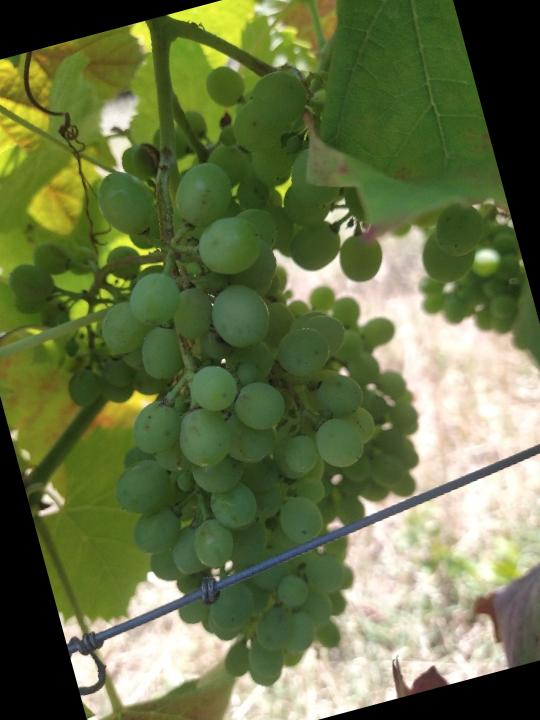grape: (0, 32, 495, 720)
